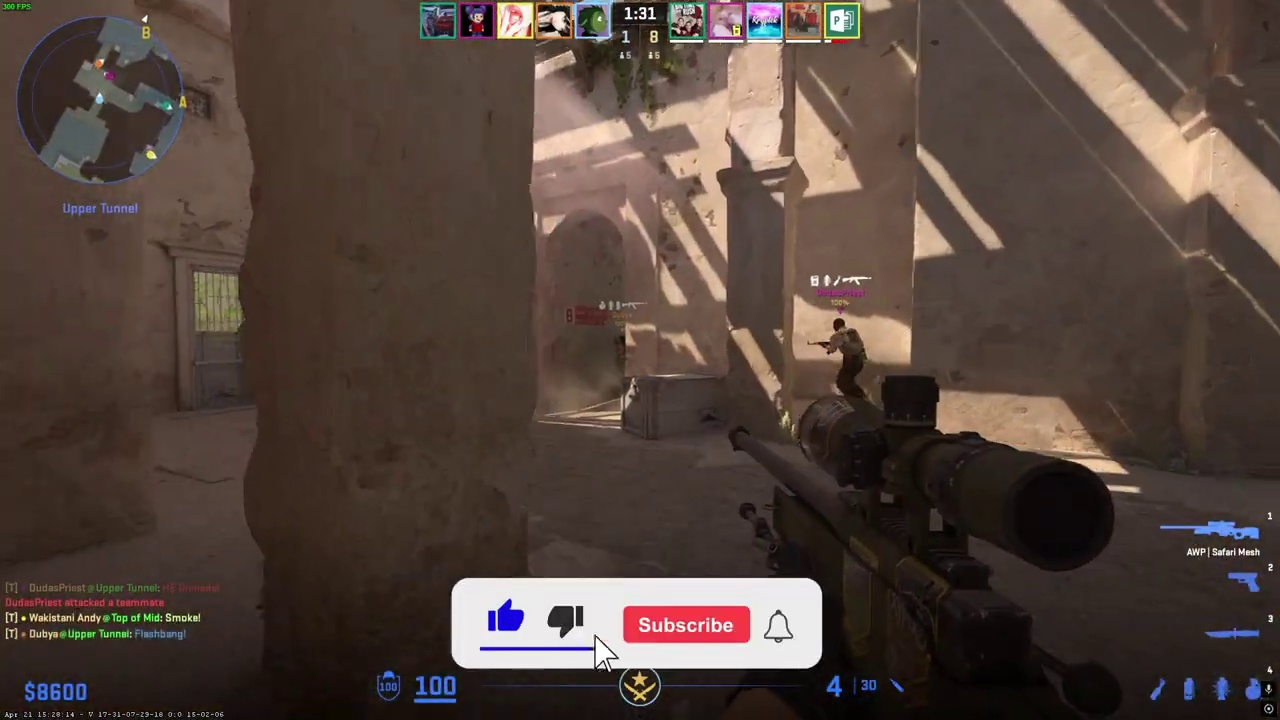Terrorist: (828, 318, 868, 401)
